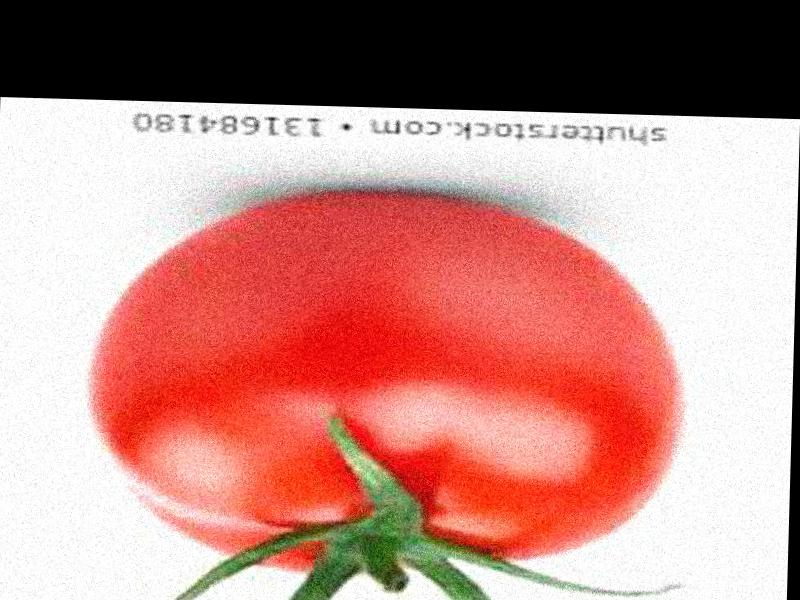Tomato: (83, 189, 686, 578)
